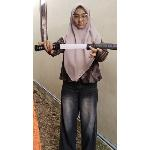Pedang: (33, 39, 117, 55)
